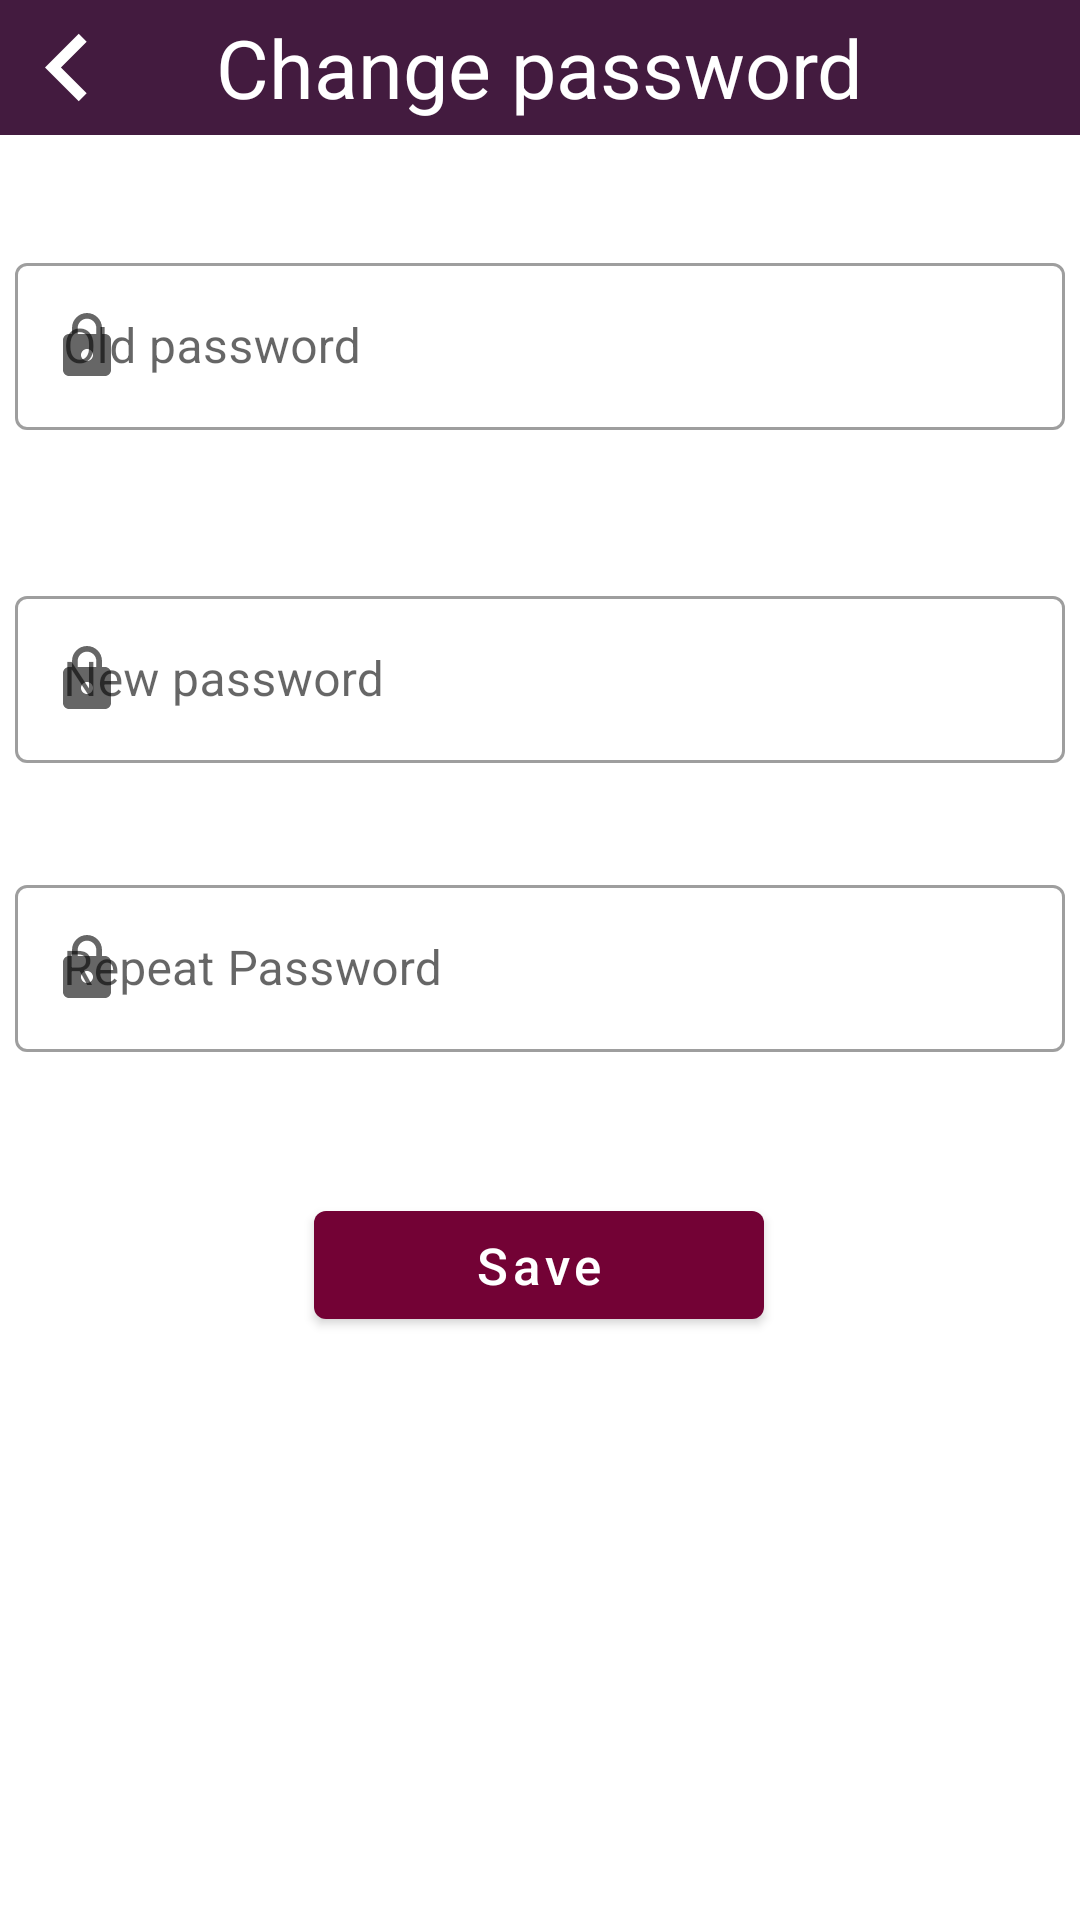

Screen size 1080×1920. Icon name, then its box in pixels as [x1, y1, x2, y2]:
chevron left: [45, 34, 87, 101]
